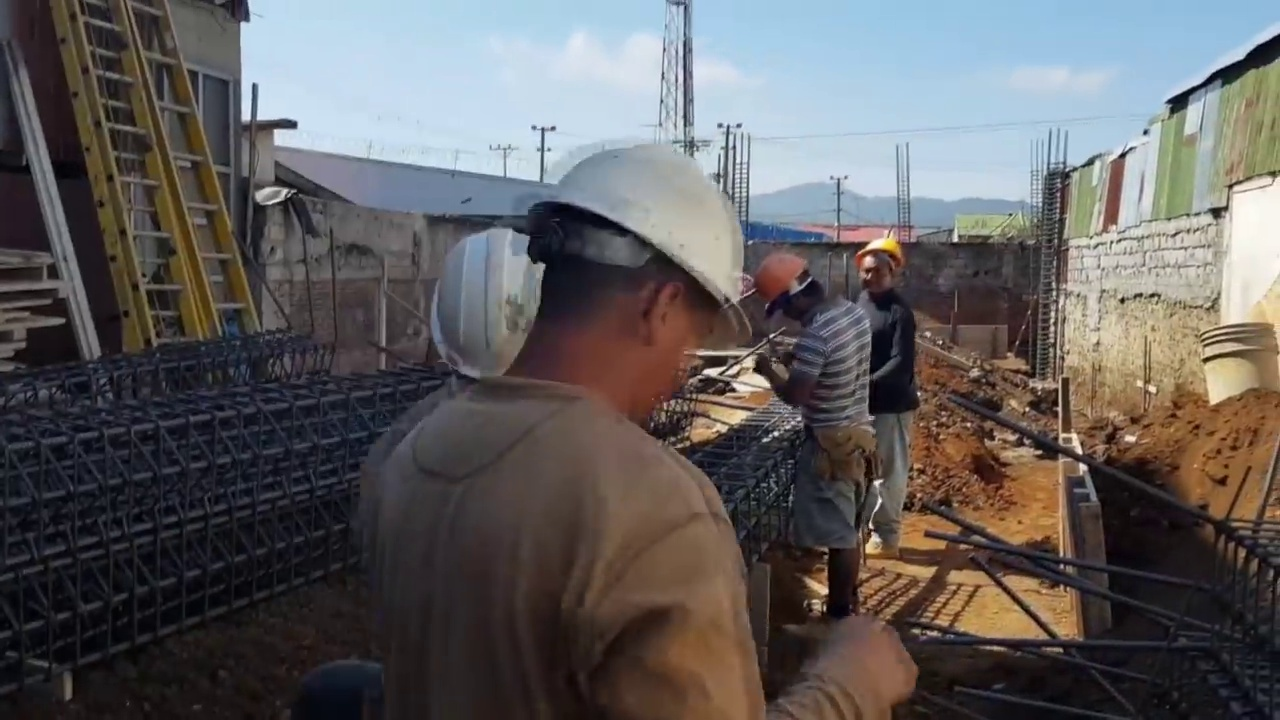helmet: (525, 139, 750, 320), (424, 211, 544, 388), (754, 254, 814, 308), (855, 238, 905, 271)
helmet-on: (482, 143, 750, 408), (755, 254, 832, 329), (854, 239, 908, 299)
person: (323, 158, 784, 716), (753, 230, 880, 623), (854, 239, 924, 556)
